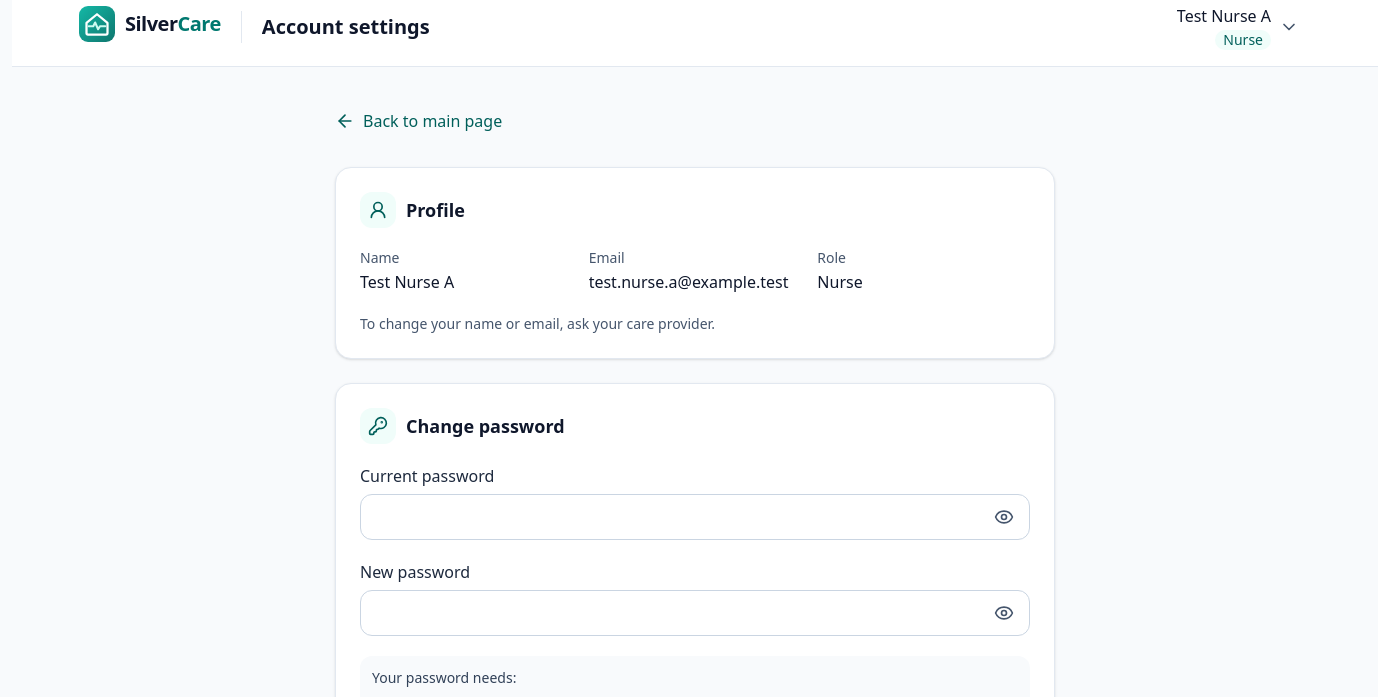
Test: change password › shows the generic error for unexpected failures
Type "Test-Passw0rd!2026" into the password field labelled "Current password" at (695, 517), box [360,494,1030,540]
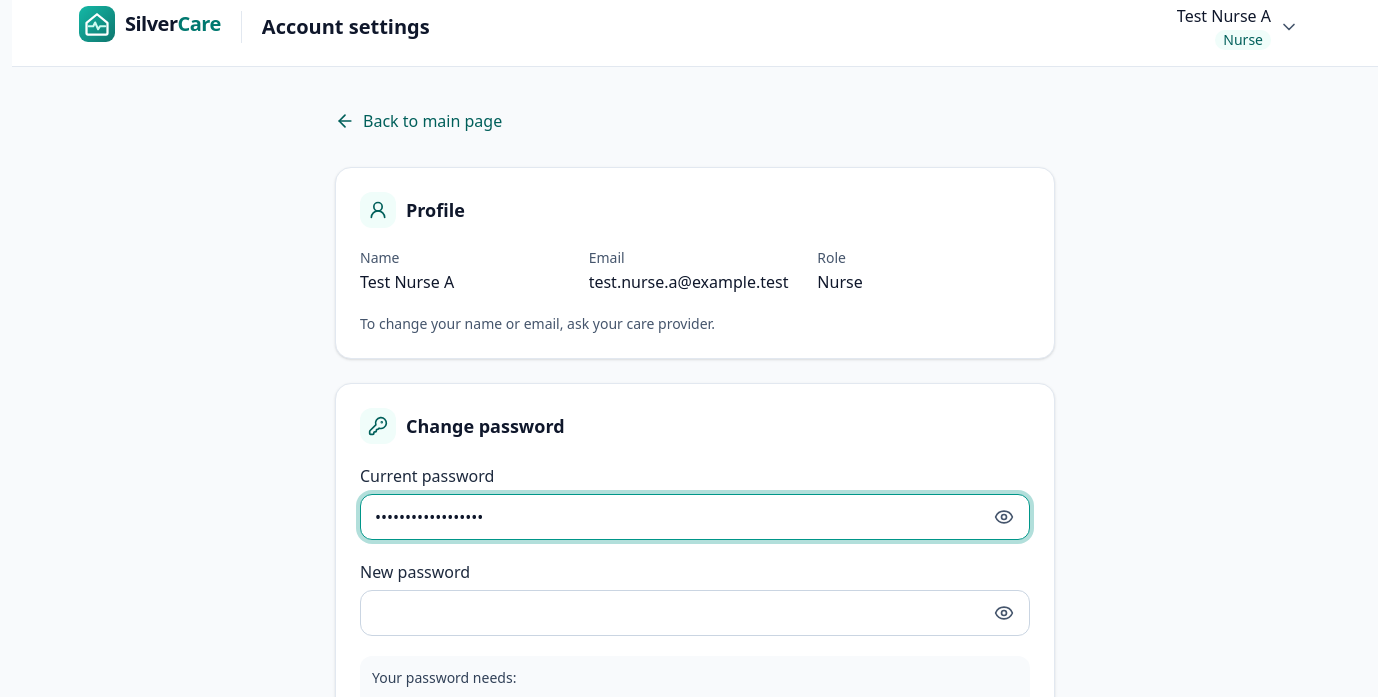
Type "Another#Test9Pass" into the password field labelled "New password" at (695, 613), box [360,590,1030,636]
(page scrolled)
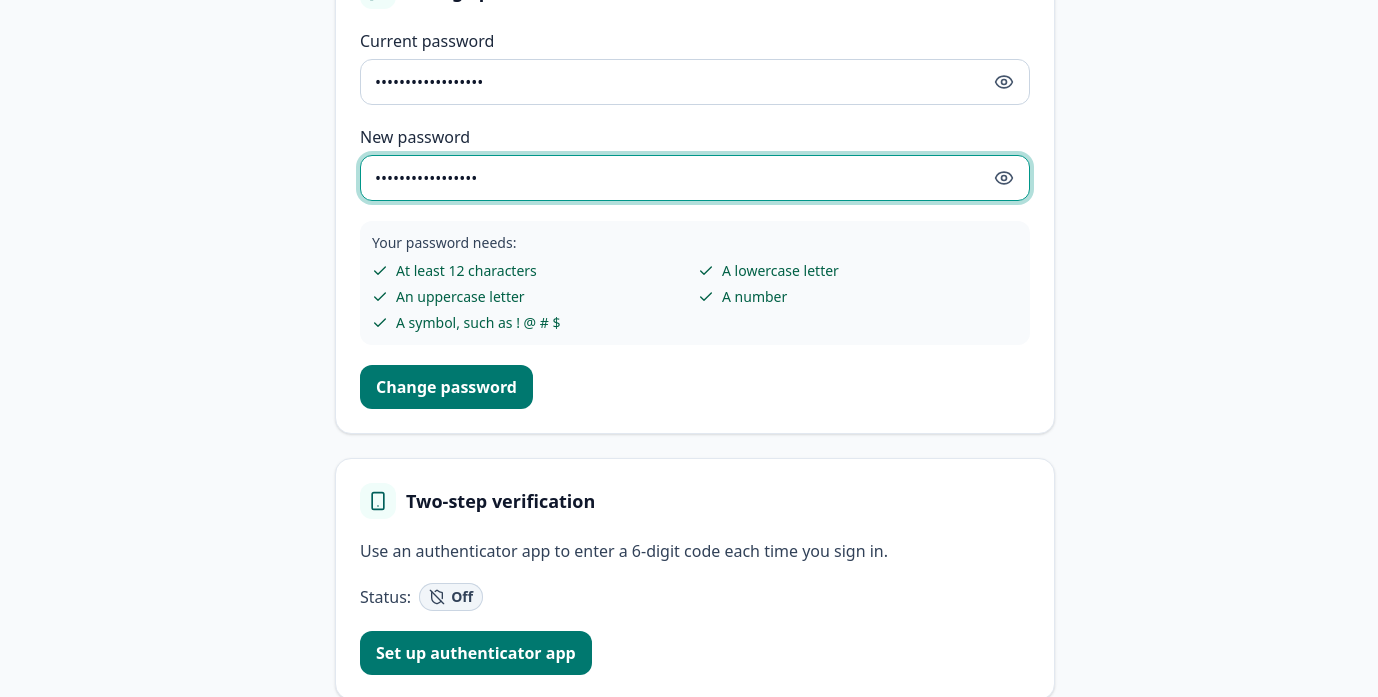
Click the button "Change password" at (446, 387), box [360,365,533,409]
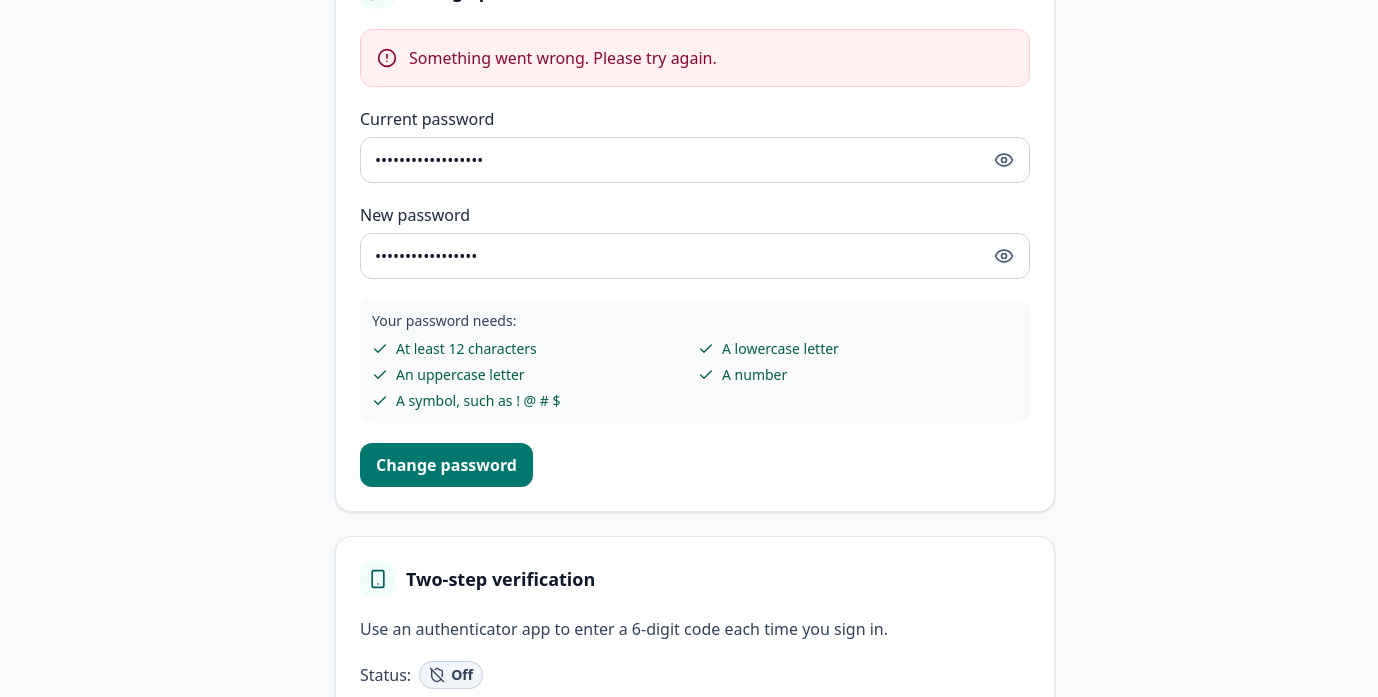
Now the message reads "Something went wrong. Please try again.", box [409,47,717,69]
